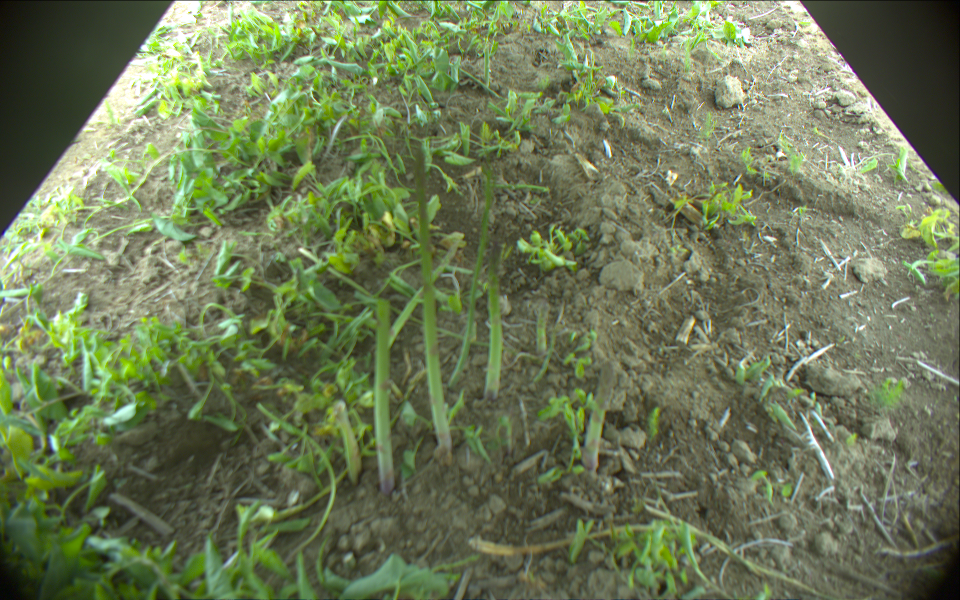aspa: (414, 145, 454, 454), (447, 160, 492, 389), (384, 242, 459, 347), (580, 363, 614, 468), (376, 293, 391, 495), (483, 273, 502, 402), (334, 401, 363, 484), (536, 300, 548, 353)
